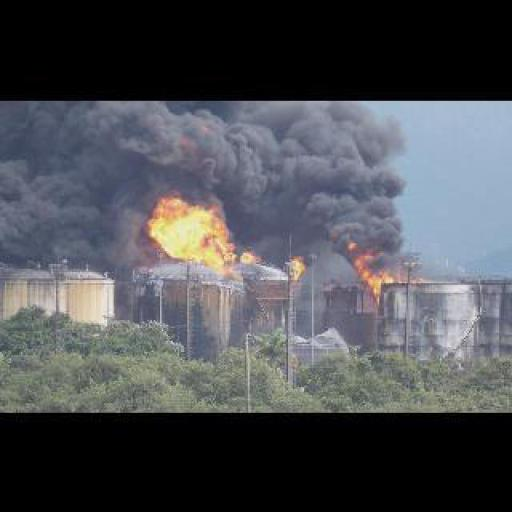smoke: (39, 97, 418, 258), (144, 192, 259, 272), (348, 240, 402, 302), (286, 254, 306, 278), (413, 275, 424, 285)
